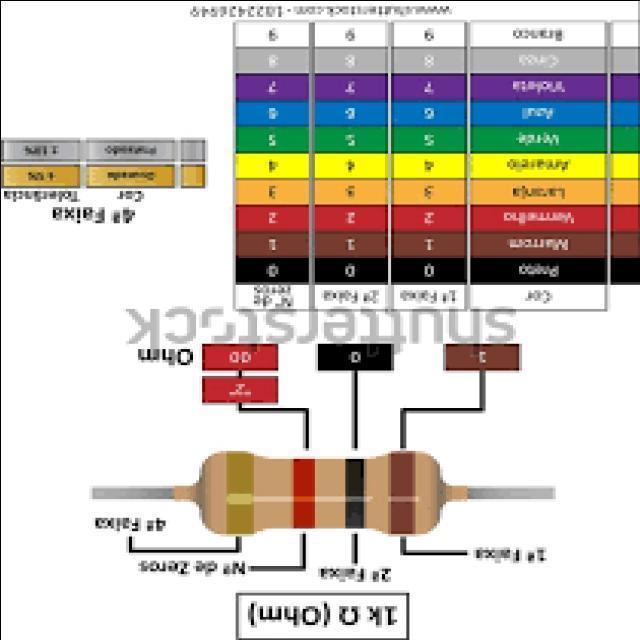Capacitor Electrolitico: (195, 442, 445, 541)
